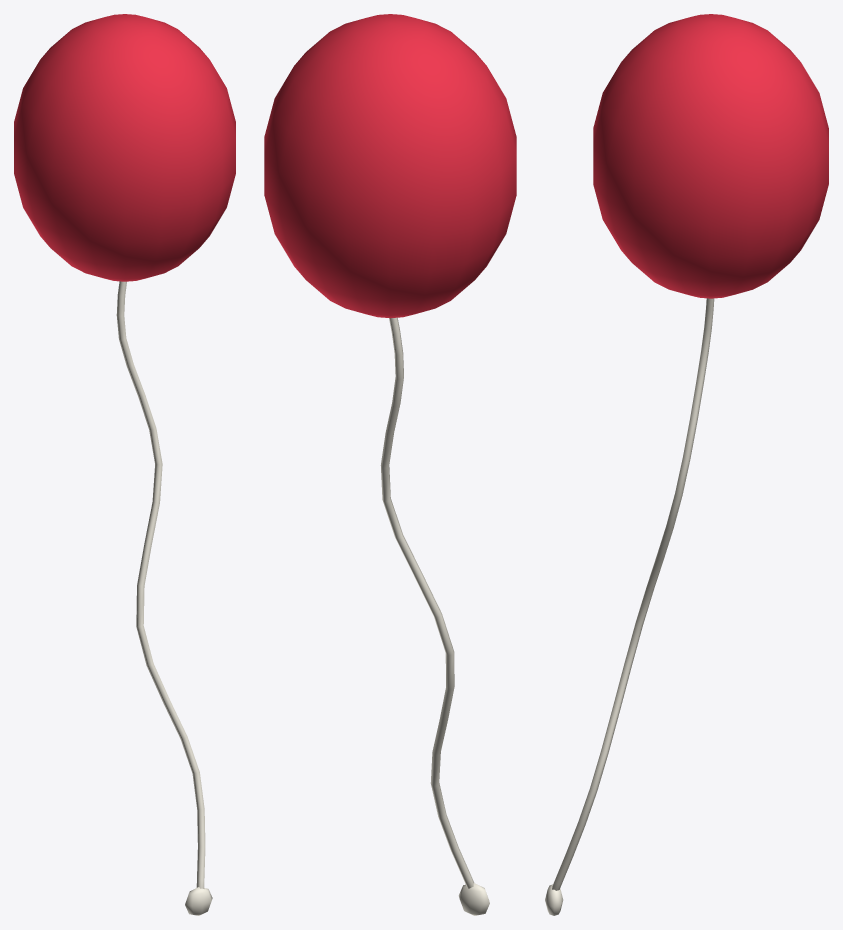
The model's file is back_balloon.glb.
3 renders of one model, left to right at view 1: azimuth 30°, elevation 25°; view 2: azimuth 150°, elevation 25°; view 3: azimuth 270°, elevation 25°, orthographic. The views are drawn at different scales.
Parts seen in each view (by area): view 1: Float, BalloonCord; view 2: Float, BalloonCord; view 3: Float, BalloonCord.
Part boxes in pixels (bbox=[...]): Float: bbox=[14, 14, 235, 281]; BalloonCord: bbox=[116, 281, 212, 915]; Float: bbox=[264, 14, 516, 318]; BalloonCord: bbox=[380, 317, 489, 915]; Float: bbox=[593, 14, 828, 298]; BalloonCord: bbox=[545, 298, 714, 915].
Bounding box in the file's own units: 0.3662 × 1.51 × 0.4343.
